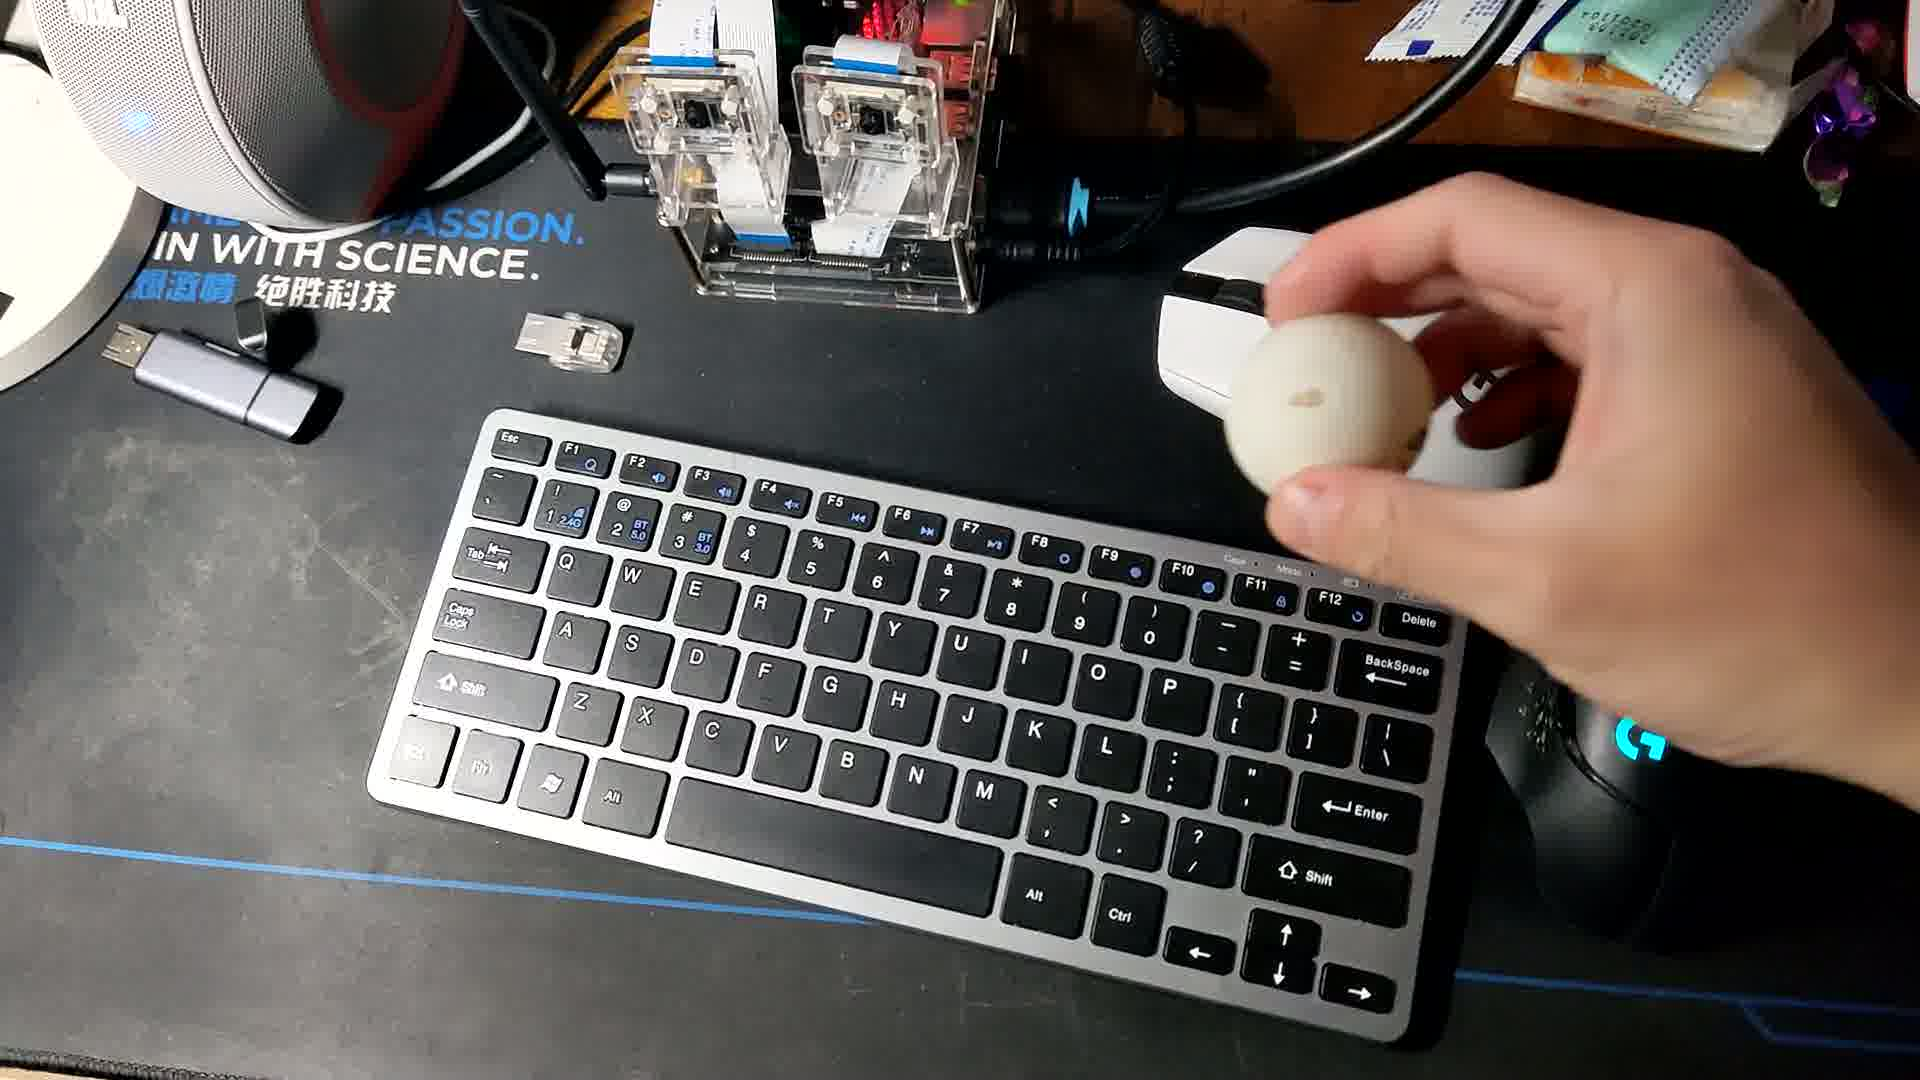Ball: (1226, 316, 1427, 508)
